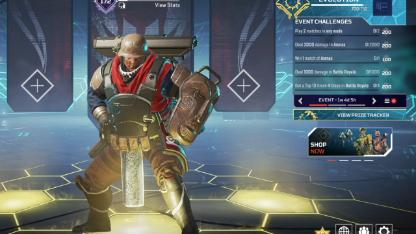Target: (83, 30, 205, 232)
